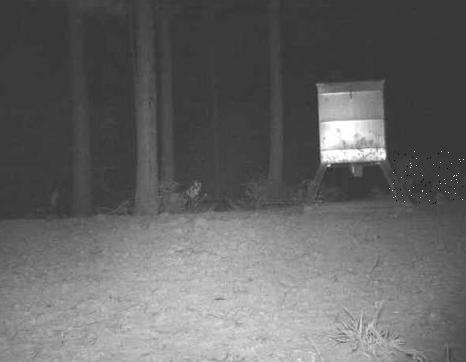Hog: (389, 151, 464, 204)
